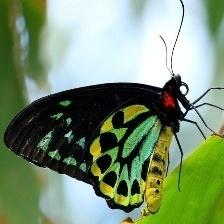butterfly: (3, 76, 221, 214)
